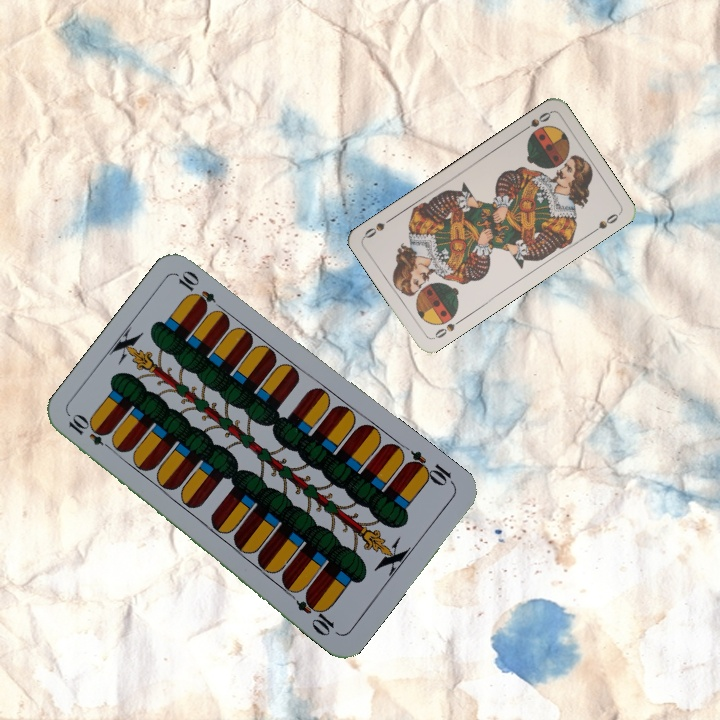E10: (64, 411, 118, 454), (402, 447, 457, 489)
SO: (428, 311, 465, 342), (517, 107, 553, 135)
